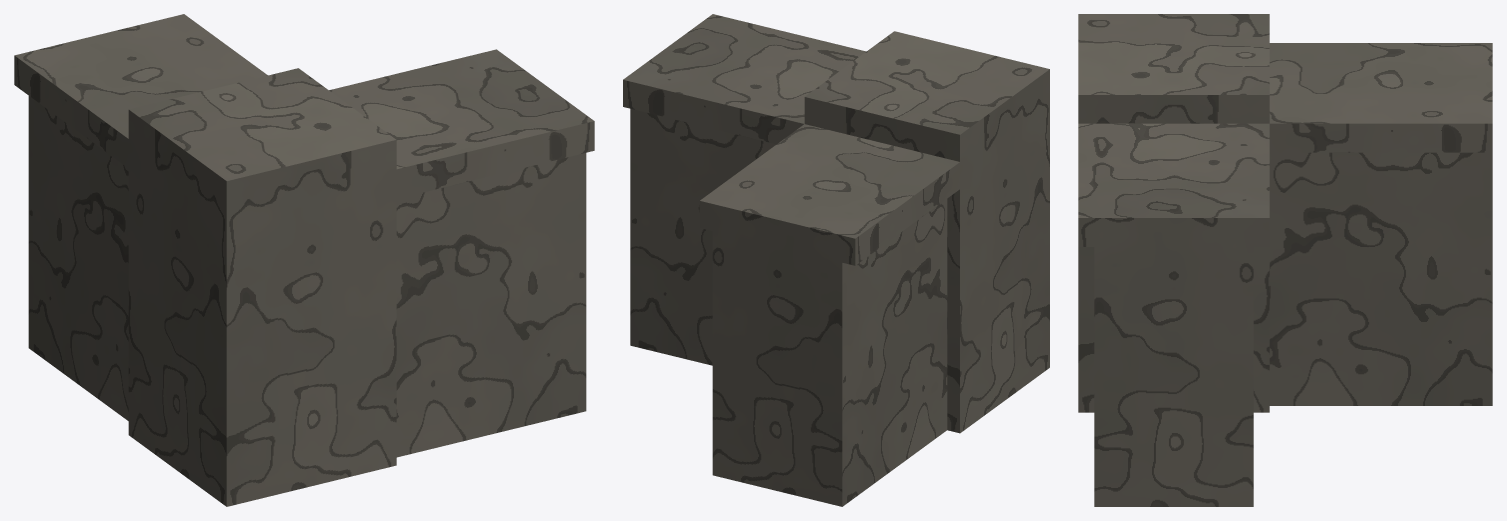
The model's file is foundation_plinth_outer_corner.glb.
3 renders of one model, left to right at view 1: azimuth 30°, elevation 25°; view 2: azimuth 150°, elevation 25°; view 3: azimuth 270°, elevation 25°, orthographic. The views are drawn at different scales.
Parts seen in each view (by area): view 1: foundation_plinth_outer_corner; view 2: foundation_plinth_outer_corner; view 3: foundation_plinth_outer_corner.
Boxes of the visible parts, left/top/right/bottom form: foundation_plinth_outer_corner: left=14, top=14, right=594, bottom=506; foundation_plinth_outer_corner: left=623, top=14, right=1049, bottom=506; foundation_plinth_outer_corner: left=1078, top=14, right=1492, bottom=506.
Size of the model in its own units: 0.65 by 0.55 by 0.65.
1 material, 1 textured.
